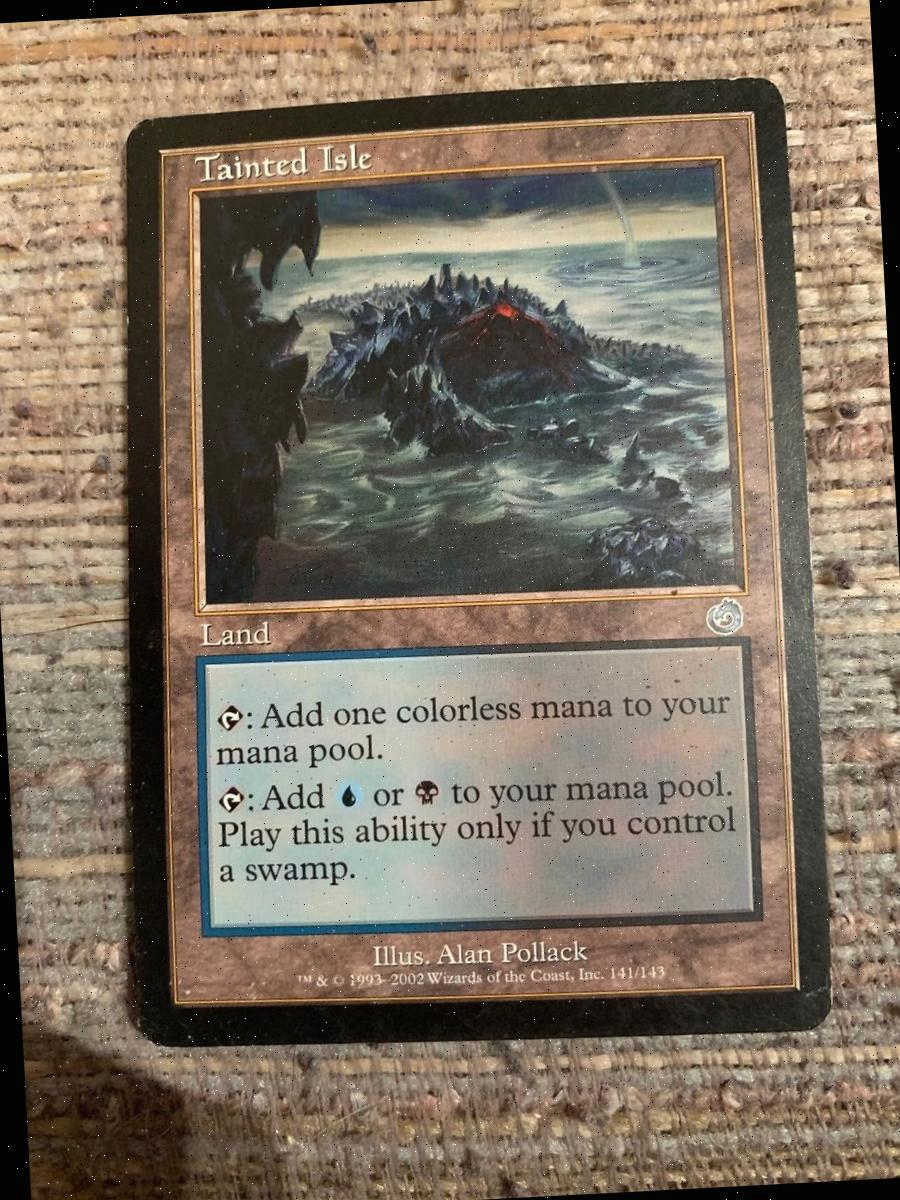card-2UtV: (126, 77, 830, 1045)
